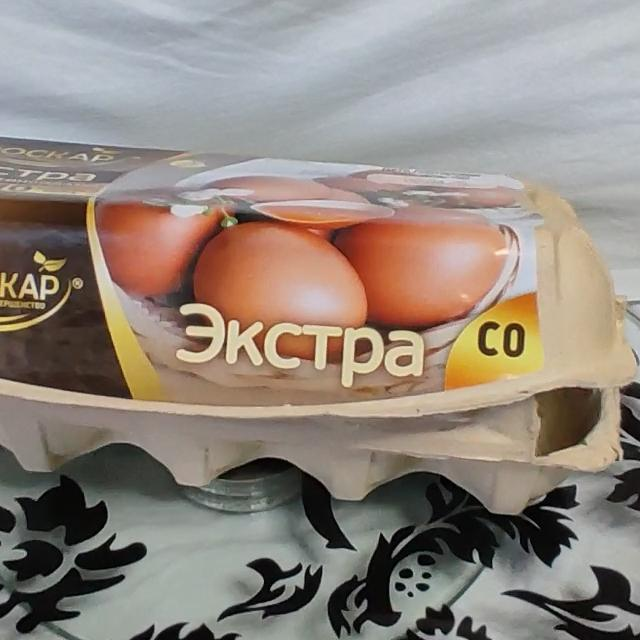egg: (0, 109, 609, 536)
